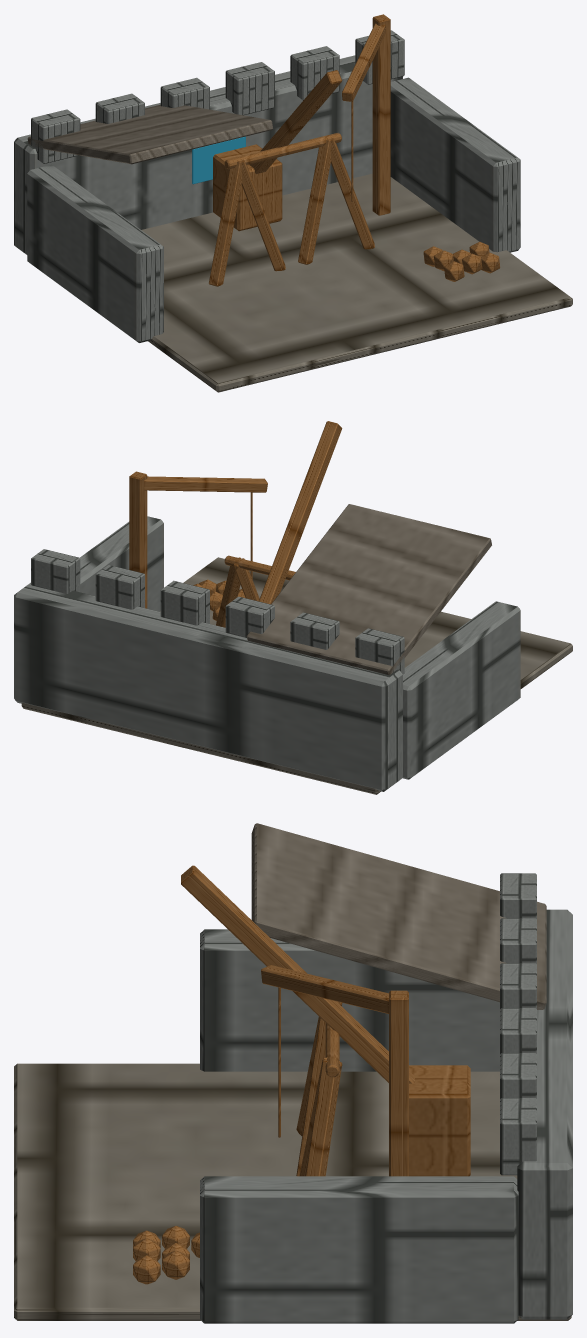
File: edificio-b_016-e2-lod0-D_ojoO1h.glb
3 views of the same model, one above another, from view 1: azimuth 30°, elevation 25°; view 2: azimuth 150°, elevation 25°; view 3: azimuth 270°, elevation 25° (orthographic). The views are drawn at different scales.
Visible parts, largest first — view 1: envolvente_fabrica_asedio_e2, mecanismo_fabrica_asedio_e2, team_color; view 2: envolvente_fabrica_asedio_e2, mecanismo_fabrica_asedio_e2; view 3: envolvente_fabrica_asedio_e2, mecanismo_fabrica_asedio_e2.
Boxes of the visible parts, x1,y1,x2,y2 form: envolvente_fabrica_asedio_e2: (14, 30, 572, 392); mecanismo_fabrica_asedio_e2: (209, 14, 500, 286); team_color: (192, 136, 245, 184); envolvente_fabrica_asedio_e2: (14, 504, 572, 794); mecanismo_fabrica_asedio_e2: (129, 421, 342, 627); envolvente_fabrica_asedio_e2: (14, 823, 572, 1323); mecanismo_fabrica_asedio_e2: (133, 865, 470, 1284).
Size of the model in its own units: 47.4 by 27.41 by 42.1.
Materials: 2 (1 with a texture image).
